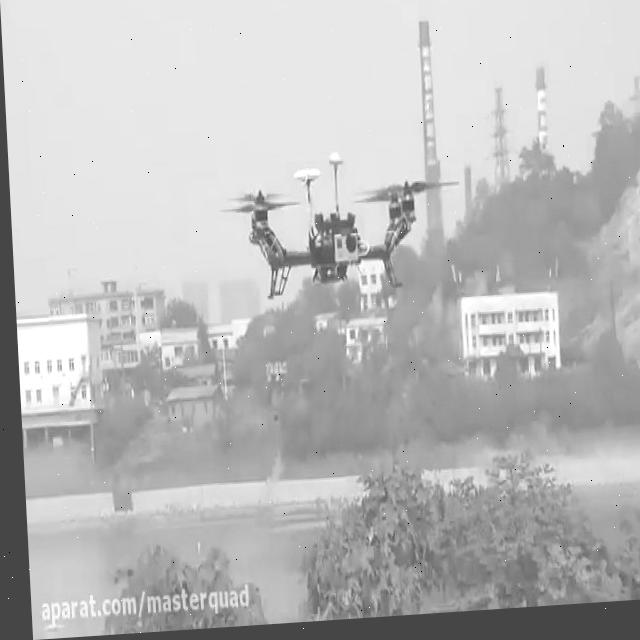drone: (208, 148, 462, 308)
